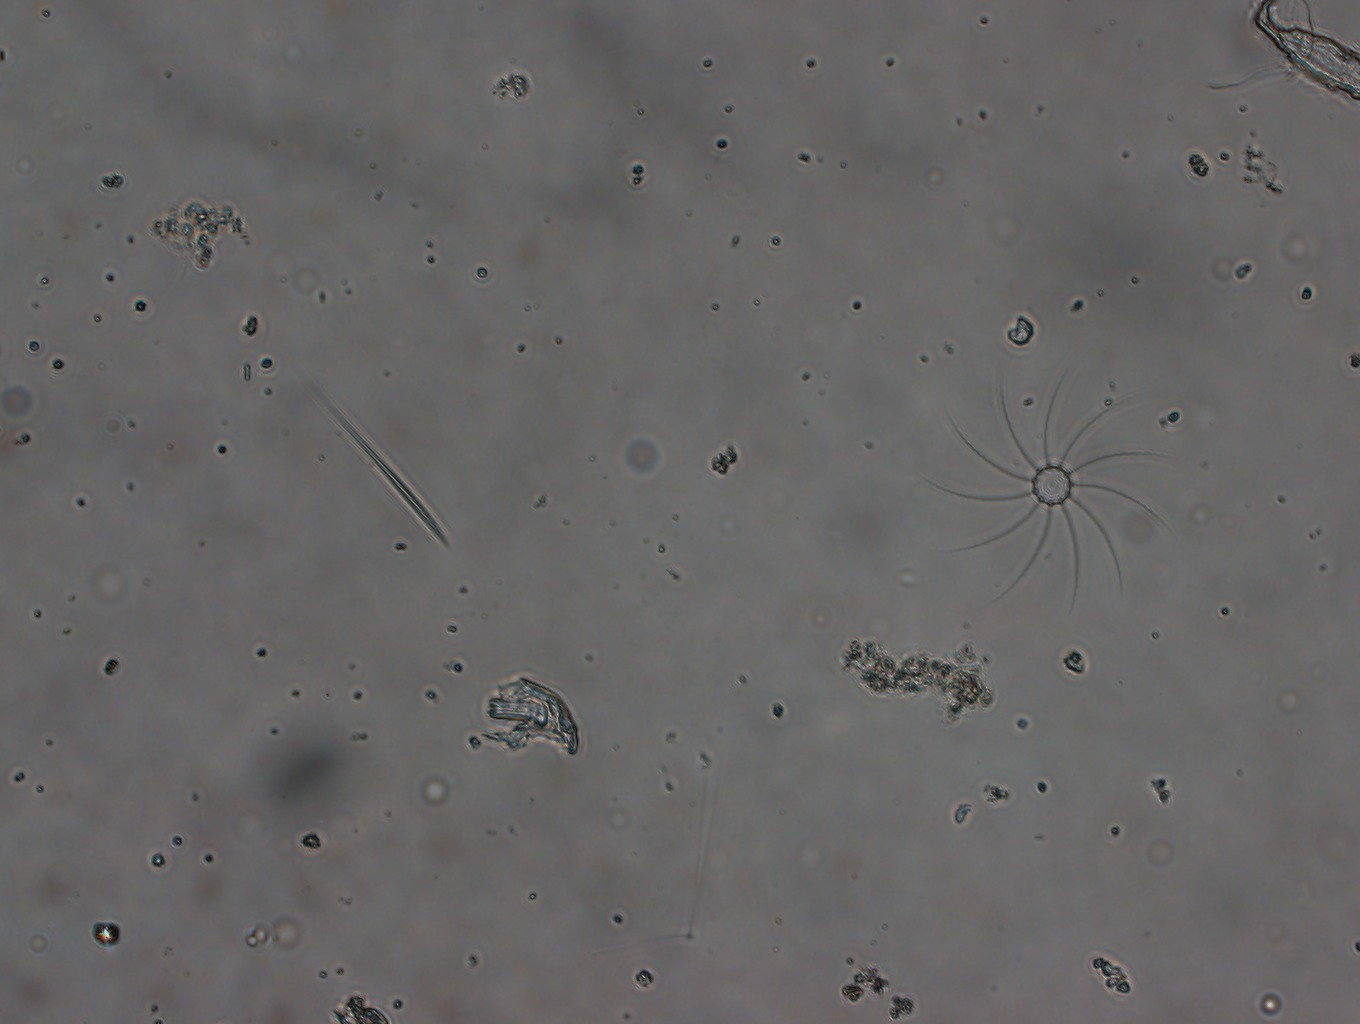bacteriastrum: (926, 355, 1180, 611)
